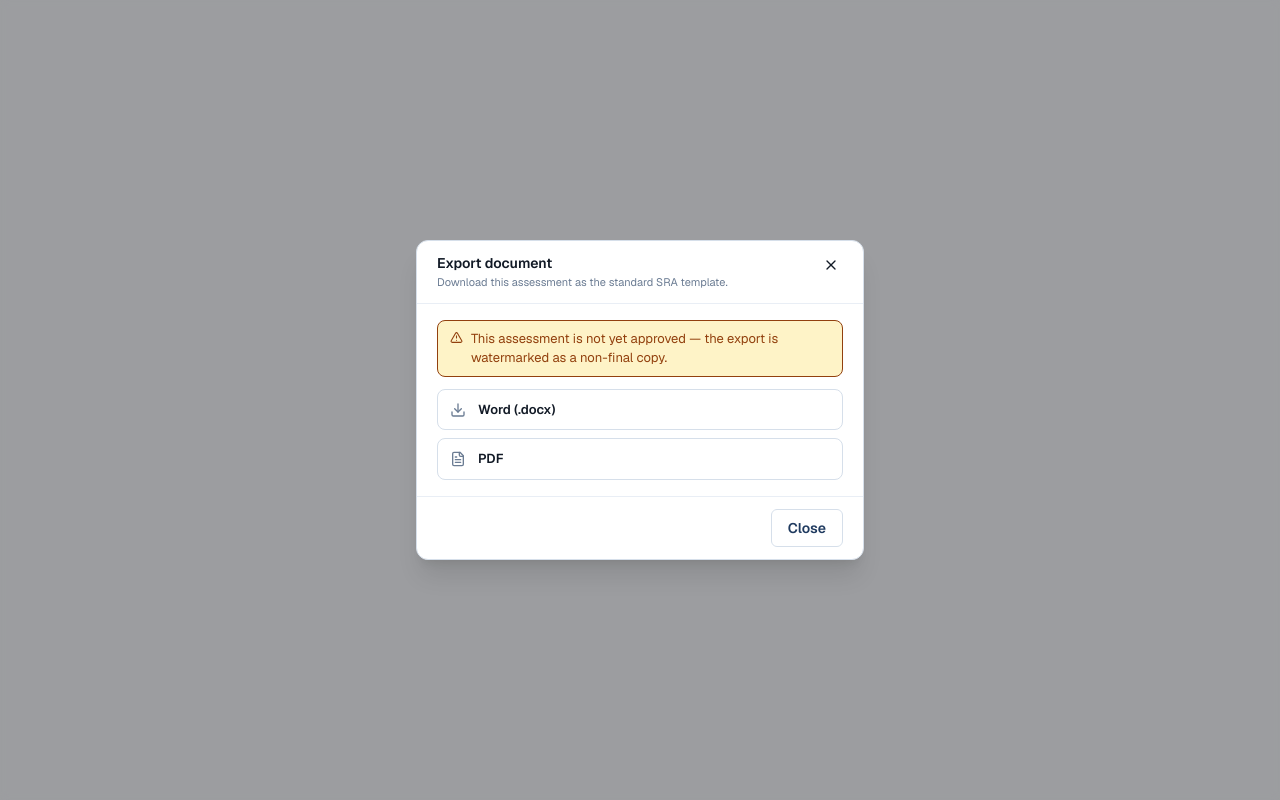
prod mode (VITE_ENABLE_DEMO=false) › a failed export surfaces inline and keeps the modal open
Click the button "Word (.docx)".
click(517, 409)  # box [437,389,843,430]
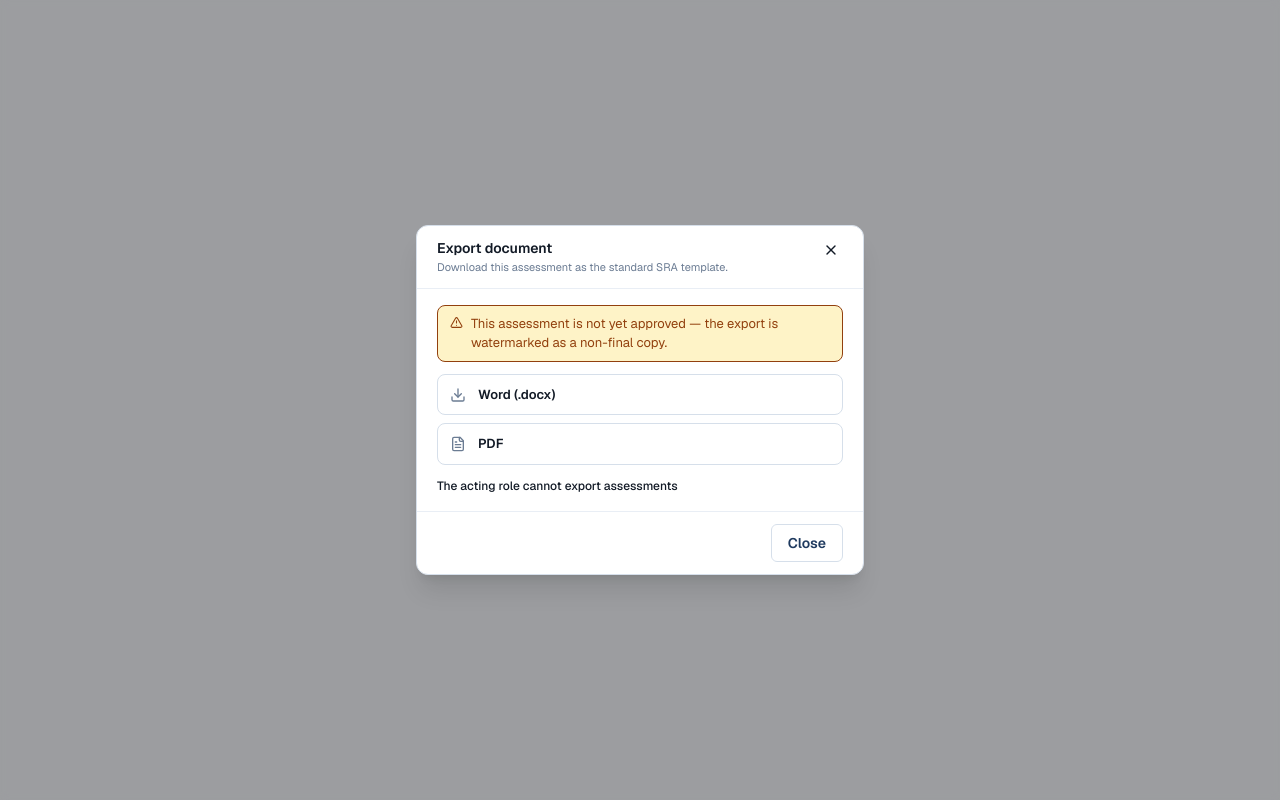
expect the text "The acting role cannot export assessments" is shown: met, box [437,478,678,494]
